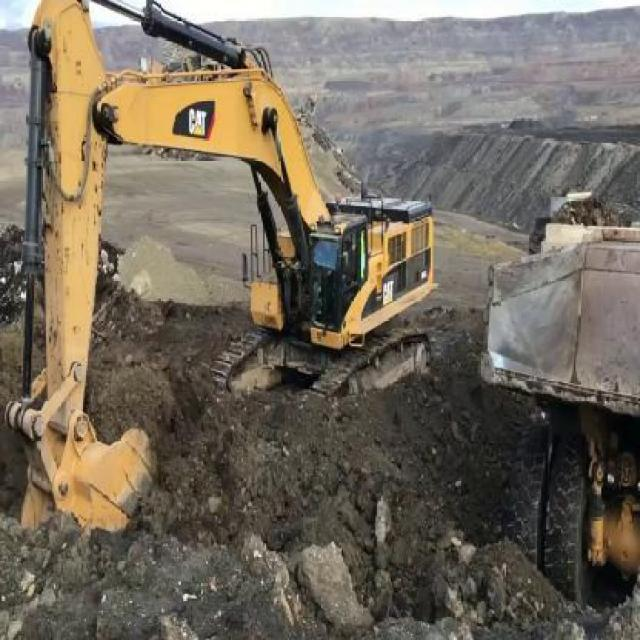Dump Truck: (481, 214, 639, 606)
Excavator: (6, 0, 437, 534)
